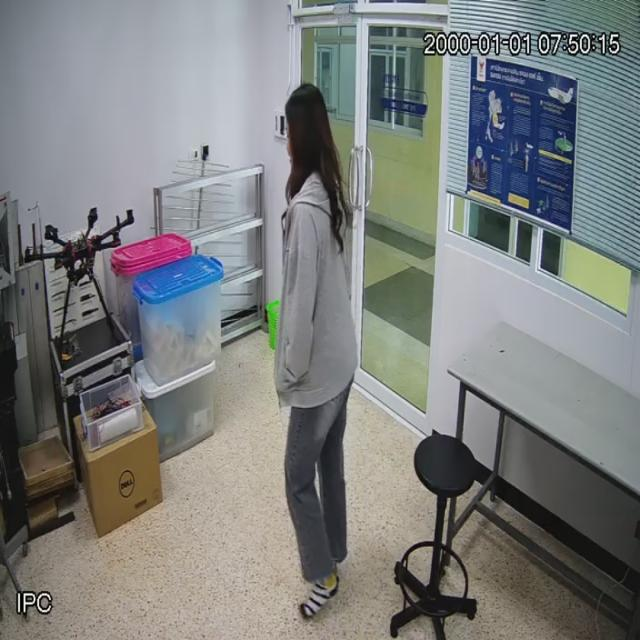normal: (267, 77, 358, 631)
